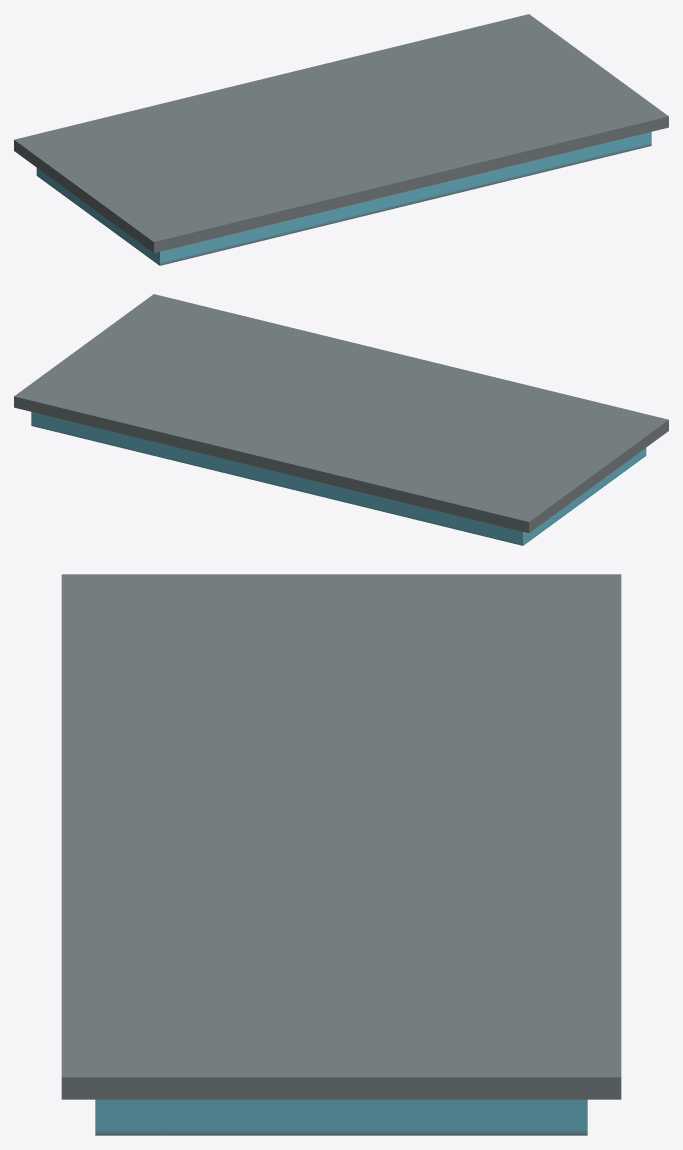
The model's file is ceiling2.fbx.
3 views of the same model, one above another, from view 1: azimuth 30°, elevation 25°; view 2: azimuth 150°, elevation 25°; view 3: azimuth 270°, elevation 25° (orthographic). The views are drawn at different scales.
Parts seen in each view (by area): view 1: Ceiling_High_R, Ceiling_under_R; view 2: Ceiling_High_R, Ceiling_under_R; view 3: Ceiling_High_R, Ceiling_under_R.
Part boxes in pixels (bbox=[...]): Ceiling_High_R: bbox=[14, 14, 668, 252]; Ceiling_under_R: bbox=[36, 132, 651, 265]; Ceiling_High_R: bbox=[14, 294, 668, 532]; Ceiling_under_R: bbox=[31, 412, 646, 545]; Ceiling_High_R: bbox=[61, 574, 621, 1099]; Ceiling_under_R: bbox=[95, 1099, 587, 1135].
Bounding box in the file's own units: 2414 × 230 × 1135.
